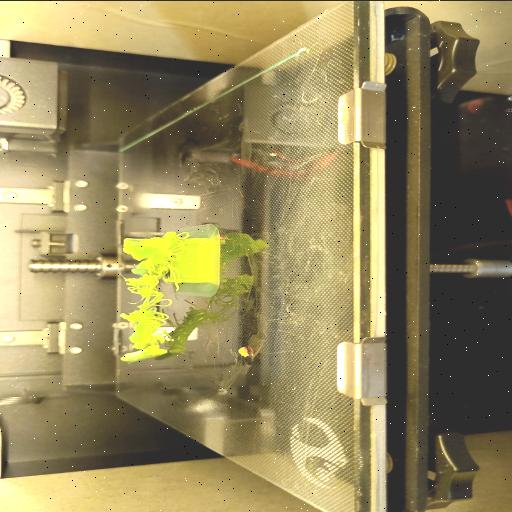spaghetti: (119, 230, 191, 343)
